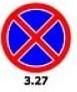road_sign: (1, 2, 71, 74)
